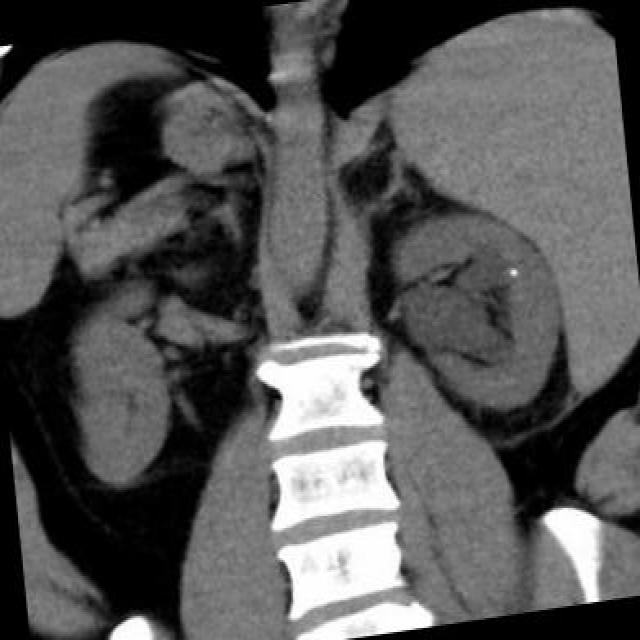Tas_Var: (506, 265, 520, 279)
